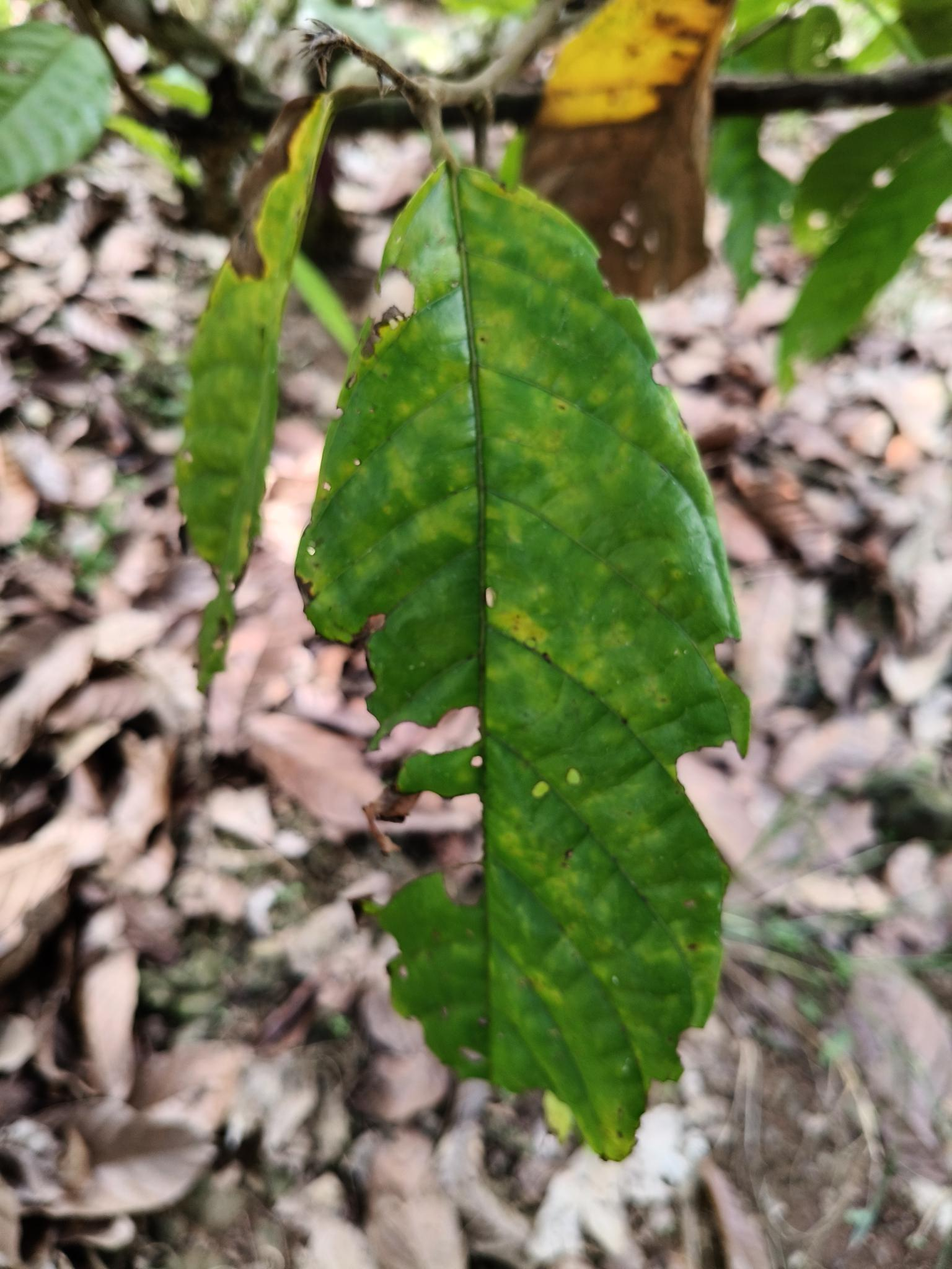Fosforo: (310, 152, 741, 1115)
